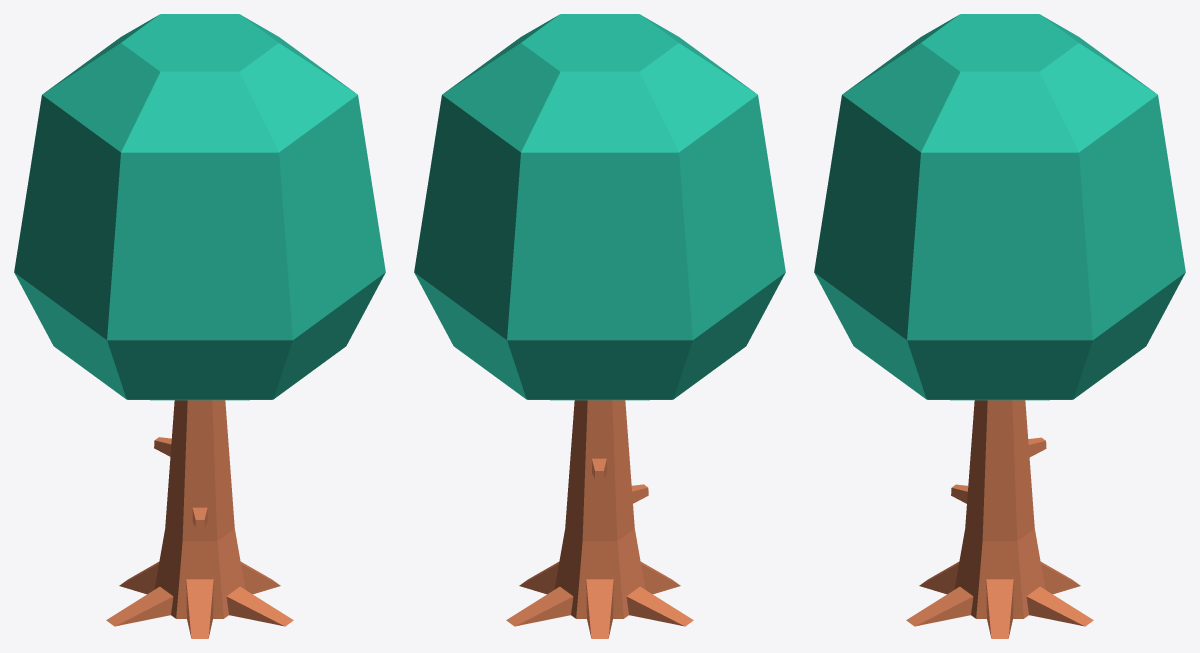
File: kenney_oak.glb
3 views of the same model, side by side, from view 1: azimuth 30°, elevation 25°; view 2: azimuth 150°, elevation 25°; view 3: azimuth 270°, elevation 25° (orthographic).
Parts seen in each view (by area): view 1: tree_oak; view 2: tree_oak; view 3: tree_oak.
Part boxes in pixels (x1,y1,x2,y2): tree_oak: (14, 14, 385, 638); tree_oak: (414, 14, 785, 638); tree_oak: (814, 14, 1185, 638).
Bounding box in the file's own units: 0.6406 × 1.23 × 0.7396.
